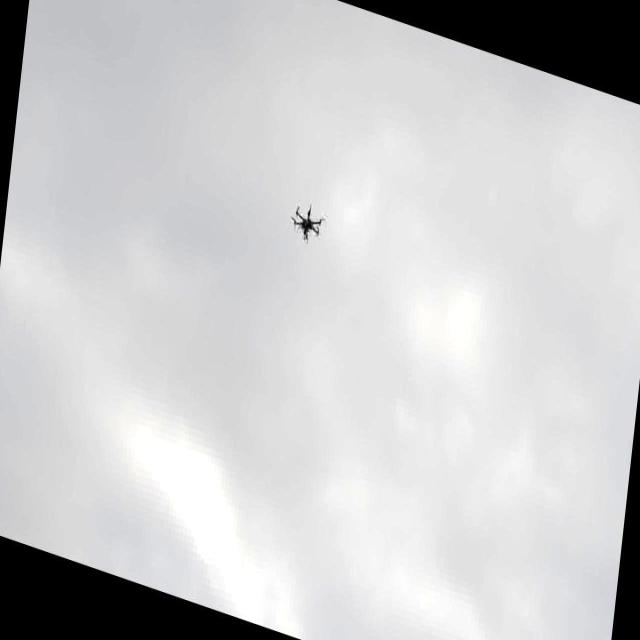drone: (289, 193, 329, 252)
